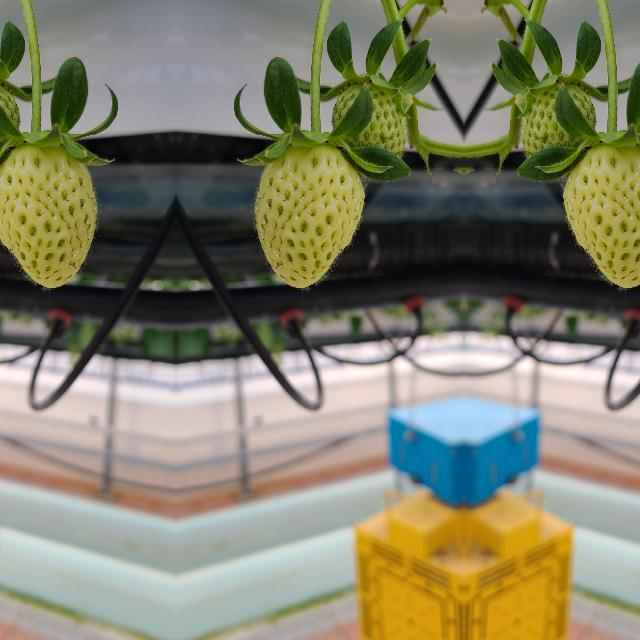Health_25: (253, 146, 363, 286), (0, 145, 97, 286), (563, 145, 640, 286), (506, 74, 600, 182), (326, 74, 419, 182), (0, 74, 23, 182)
